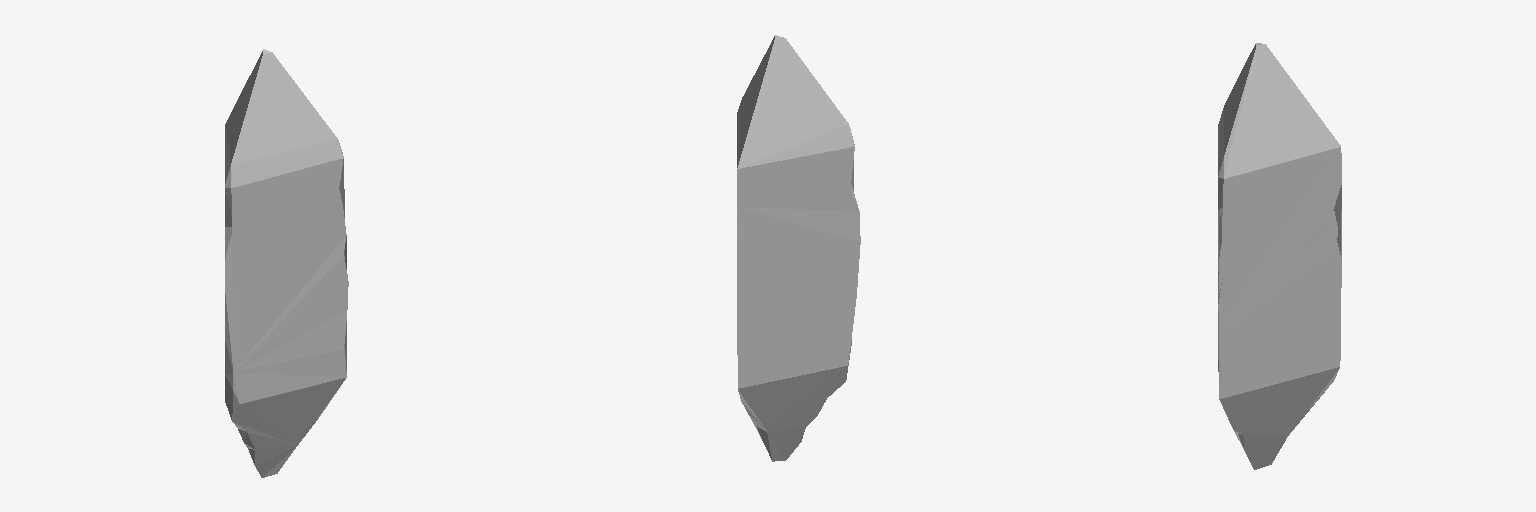
Rendered from memory-fragment.obj.
3 renders of one model, left to right at view 1: azimuth 30°, elevation 25°; view 2: azimuth 150°, elevation 25°; view 3: azimuth 270°, elevation 25°, orthographic.
Parts seen in each view (by area): view 1: Sphere; view 2: Sphere; view 3: Sphere.
Boxes of the visible parts, x1,y1,x2,y2 form: Sphere: [225, 49, 348, 477]; Sphere: [737, 35, 860, 461]; Sphere: [1218, 43, 1341, 469].
Bounding box in the file's own units: 1.5 × 4.92 × 1.3.